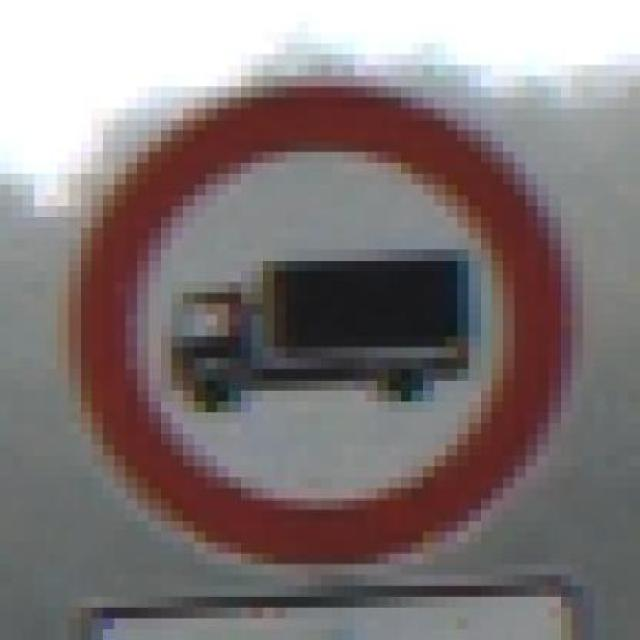Truck traffic is prohibited: (57, 75, 572, 576)
